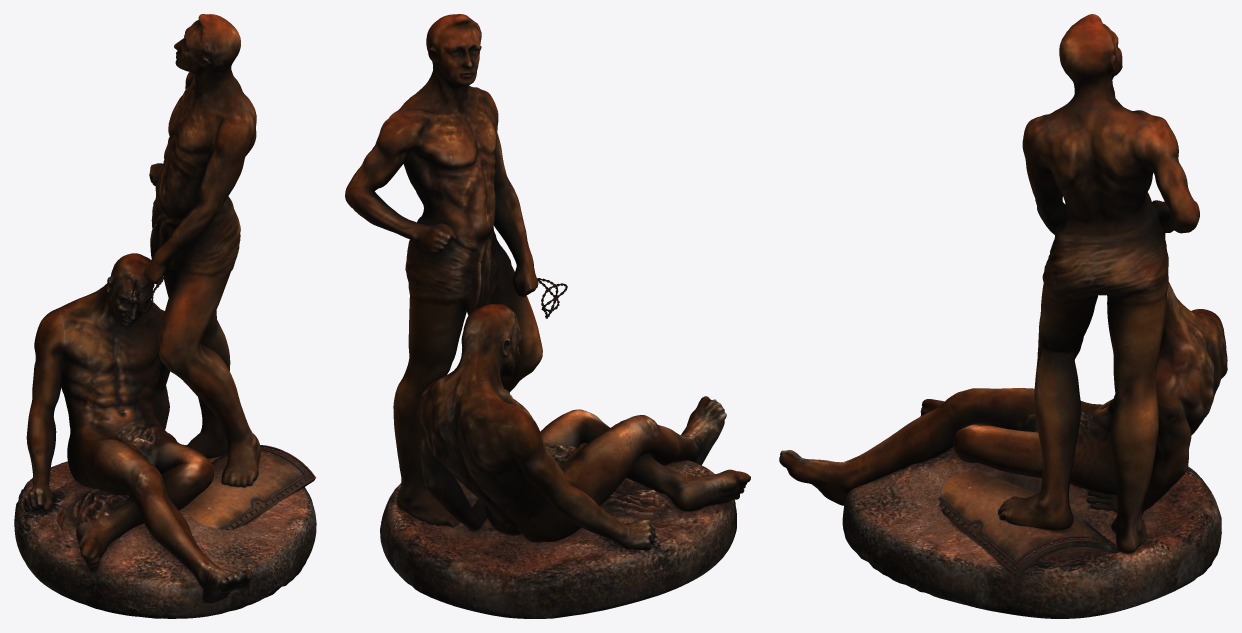
The model's file is gladiaatorid.glb.
3 views of the same model, side by side, from view 1: azimuth 30°, elevation 25°; view 2: azimuth 150°, elevation 25°; view 3: azimuth 270°, elevation 25° (orthographic). The views are drawn at different scales.
Visible parts, largest first — view 1: Mesh; view 2: Mesh; view 3: Mesh.
Boxes of the visible parts, box(x1,y1,x2,y2) form: Mesh: box(14, 14, 316, 618); Mesh: box(345, 14, 750, 618); Mesh: box(779, 14, 1227, 618).
Bounding box in the file's own units: 25.39 × 44.21 × 31.82.
1 material, 1 textured.
